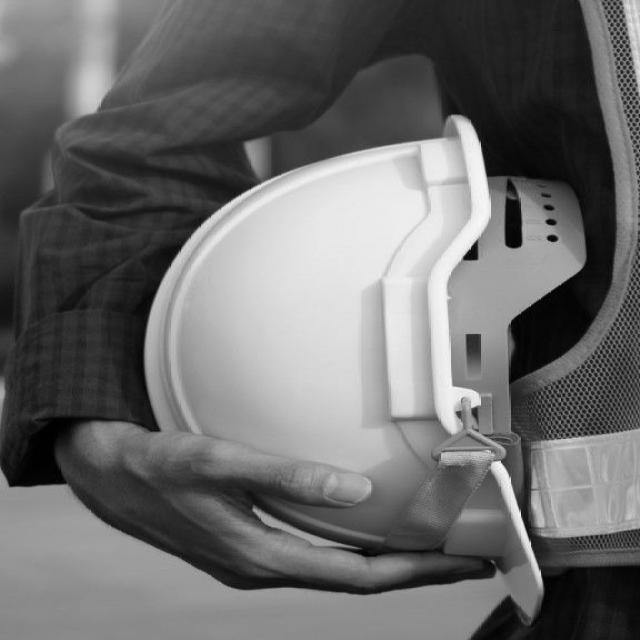safety_helmet: (142, 116, 541, 606)
